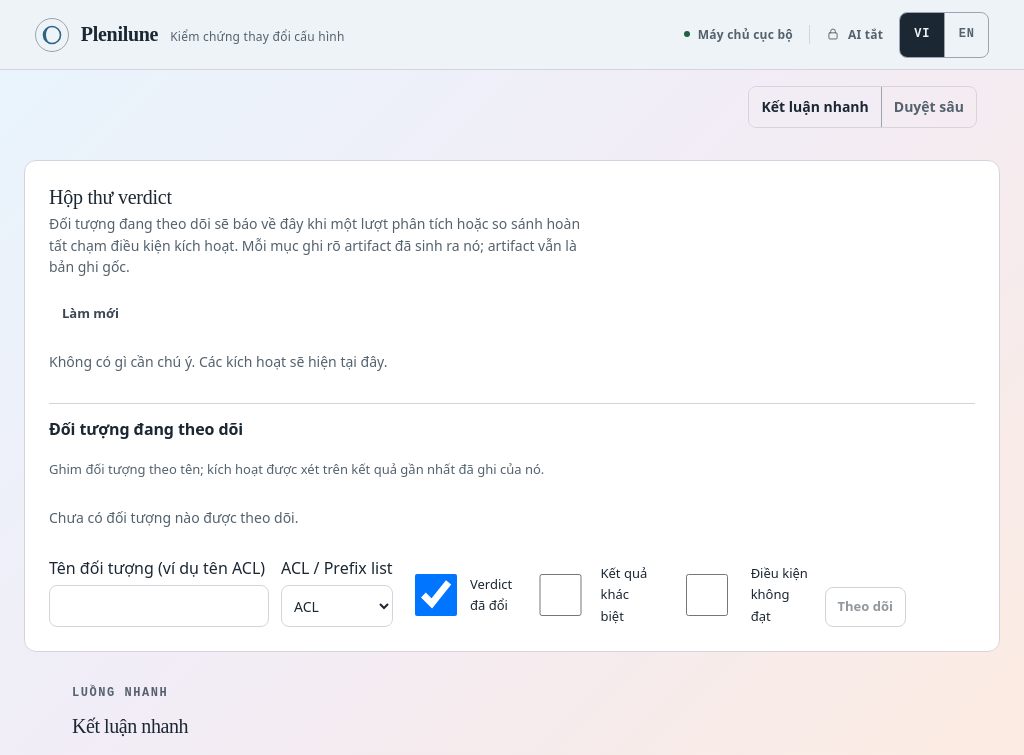
Scenario: P1-8 quick verdict path › (e) reaches deep review mode via the switch and its stages still render
Click the button "Duyệt sâu" at (928, 107), box [881,87,976,127]
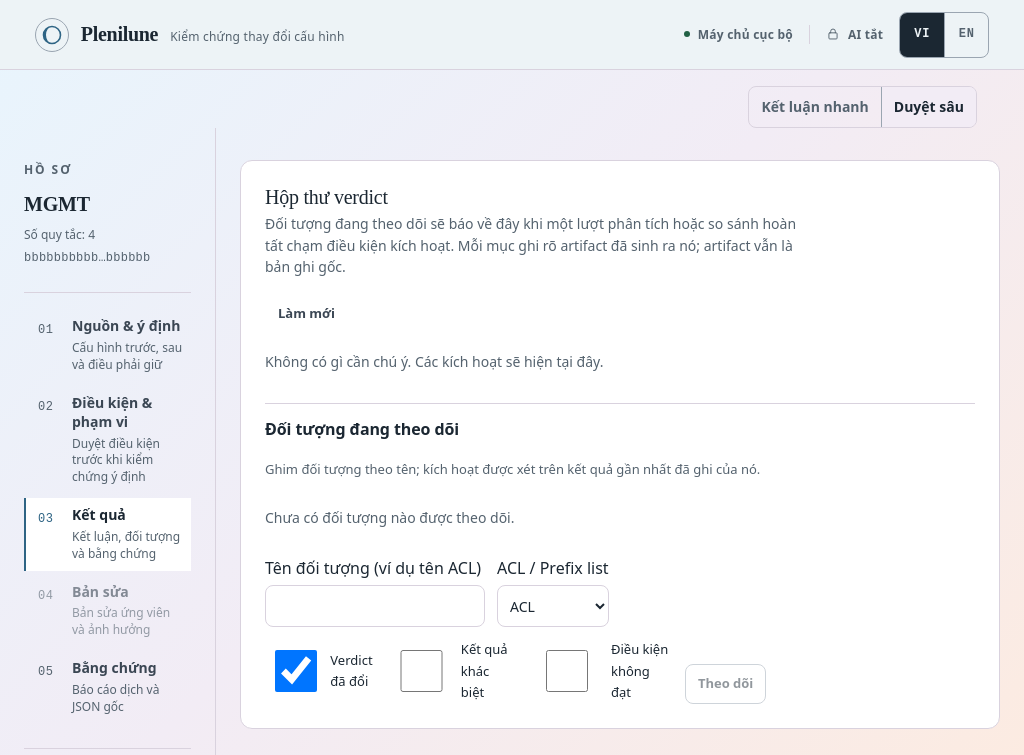
// Stage navigation still works: back to the source step.
Click the button "01 Nguồn & ý định Cấu hình trước, sau và điều phải giữ" at (108, 346), box [24,309,191,382]
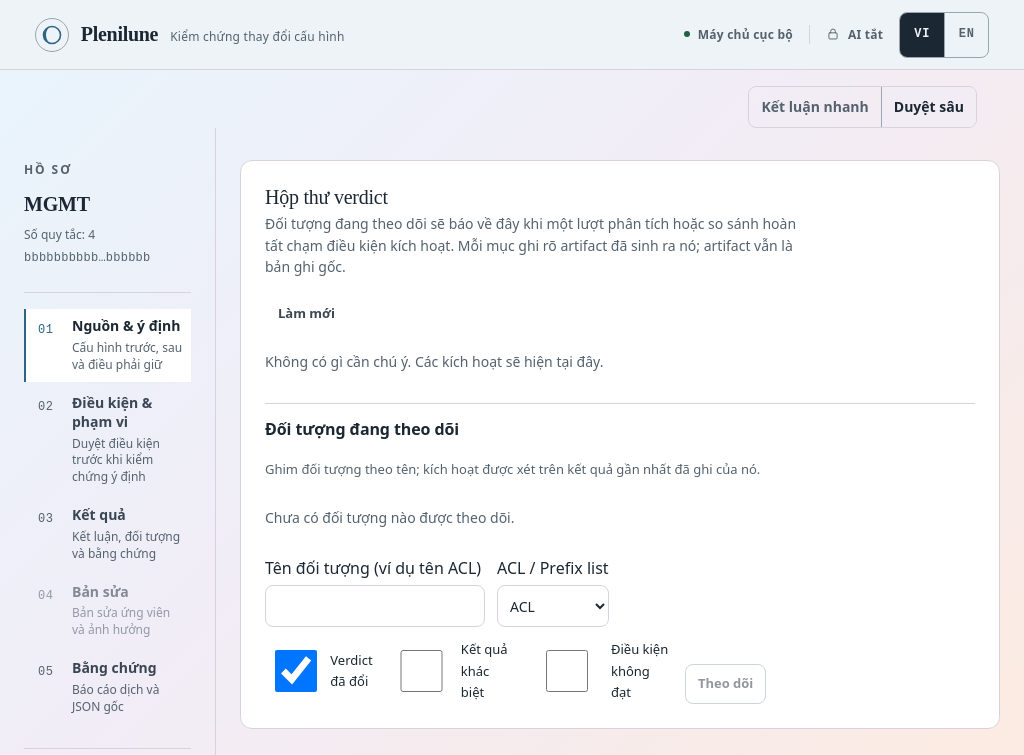
// And back to quick mode, where the verdict is still there.
Click the button "Kết luận nhanh" at (815, 107), box [750,87,881,127]
(page scrolled)
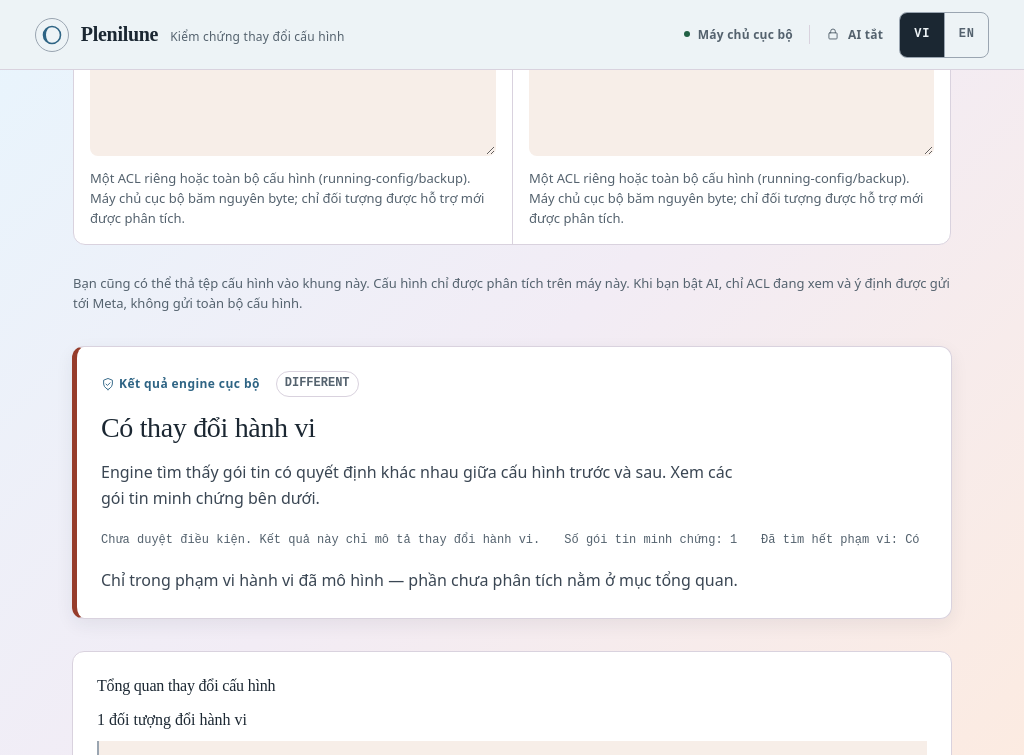
Now the text "DIFFERENT" is shown, box [276,371,359,397]
